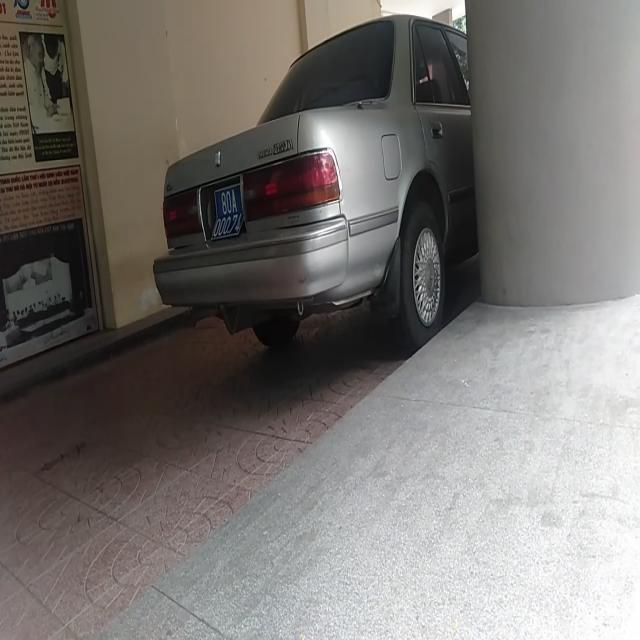bien_xanh: (209, 182, 247, 240)
